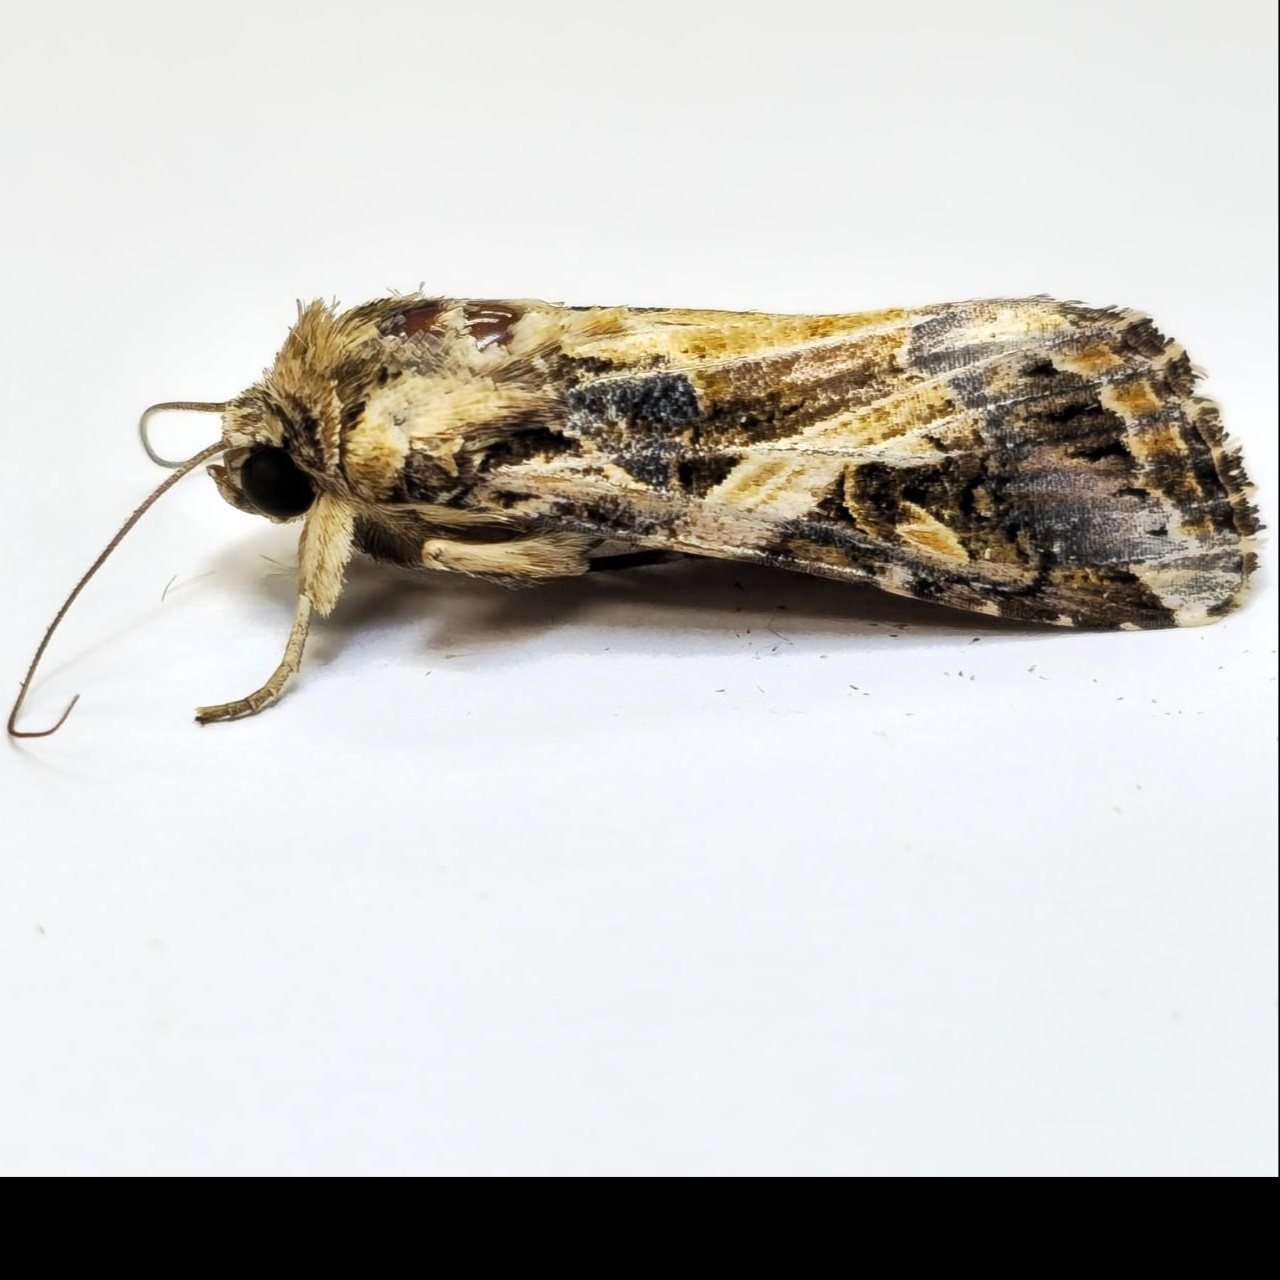Spodoptera litura: (6, 279, 1267, 738)
